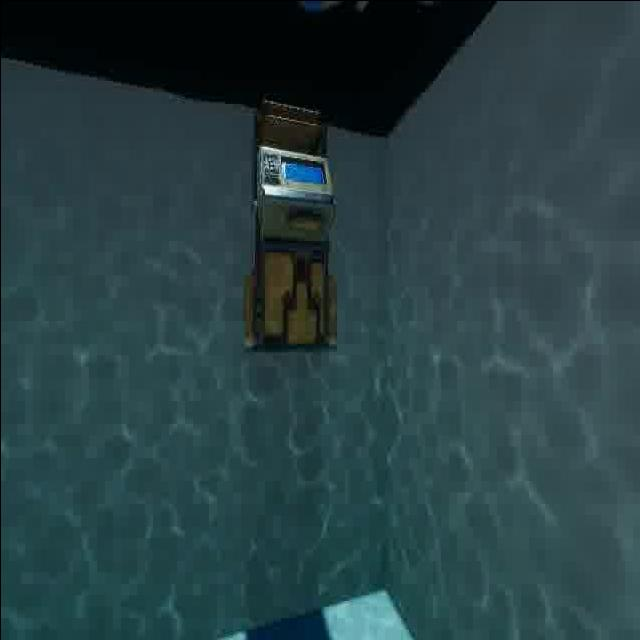Control Panel: (234, 86, 347, 361)
